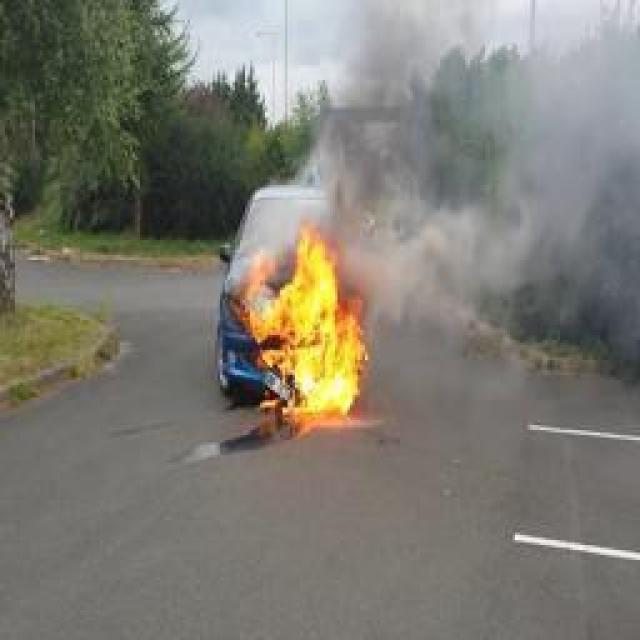Fire: (236, 226, 372, 422)
